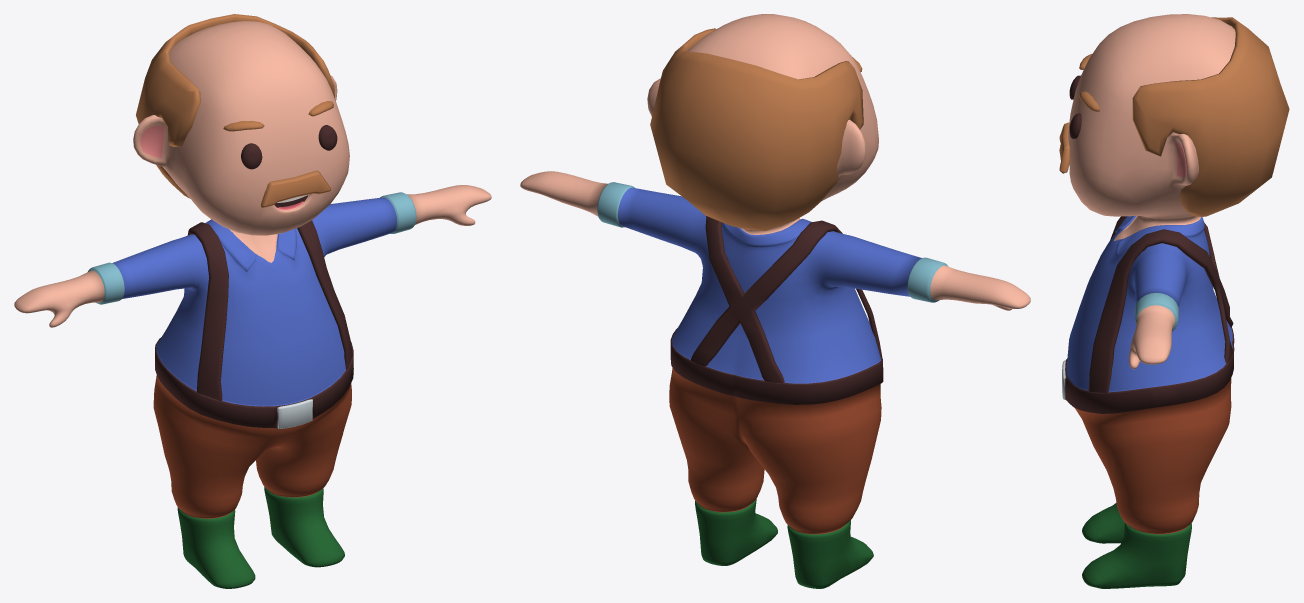
The model's file is old_male_farmer_02.fbx.
The picture shows the model from 3 angles, left to right: view 1: azimuth 30°, elevation 25°; view 2: azimuth 150°, elevation 25°; view 3: azimuth 270°, elevation 25°; orthographic projection. The views are drawn at different scales.
Visible parts, largest first — view 1: old_male_farmer_02; view 2: old_male_farmer_02; view 3: old_male_farmer_02.
Part boxes in pixels (box(x1,y1,x2,y2)): old_male_farmer_02: box(14, 14, 491, 588); old_male_farmer_02: box(520, 14, 1030, 588); old_male_farmer_02: box(1059, 14, 1289, 588).
Size of the model in its own units: 4.9 by 5.1 by 1.99.
